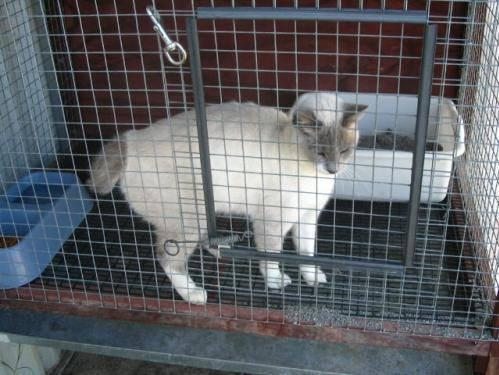cat: (204, 93, 365, 255)
